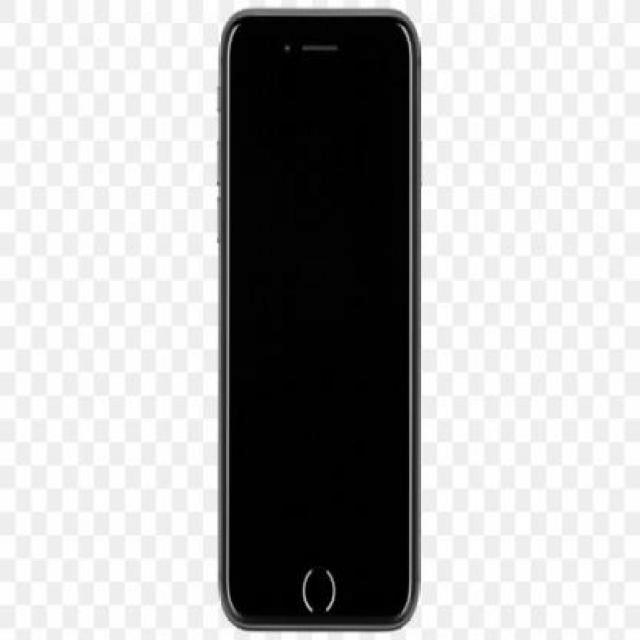fake: (218, 3, 419, 632)
